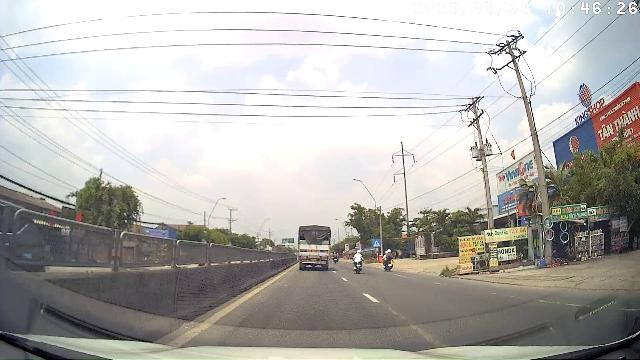423a-duong-nguoi-di-bo-sang-ngang-1: (372, 239, 380, 248)
